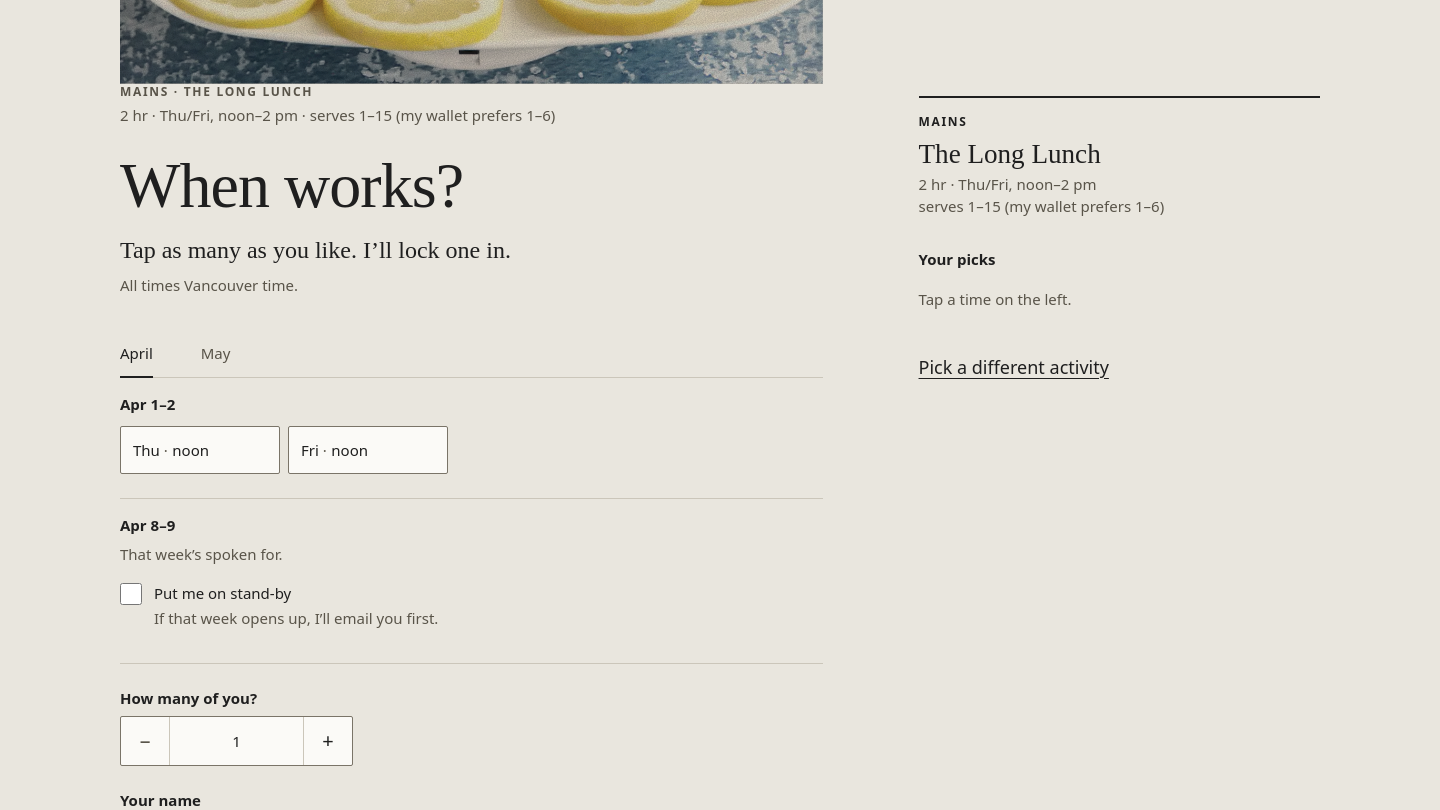
Test: S6 picker (T1.5.U2-U5) › stand-by replaces picked times (the server rule)
(page scrolled)
Click the button "Thu · noon".
click(200, 450)  # box [120,426,280,474]
(page scrolled)
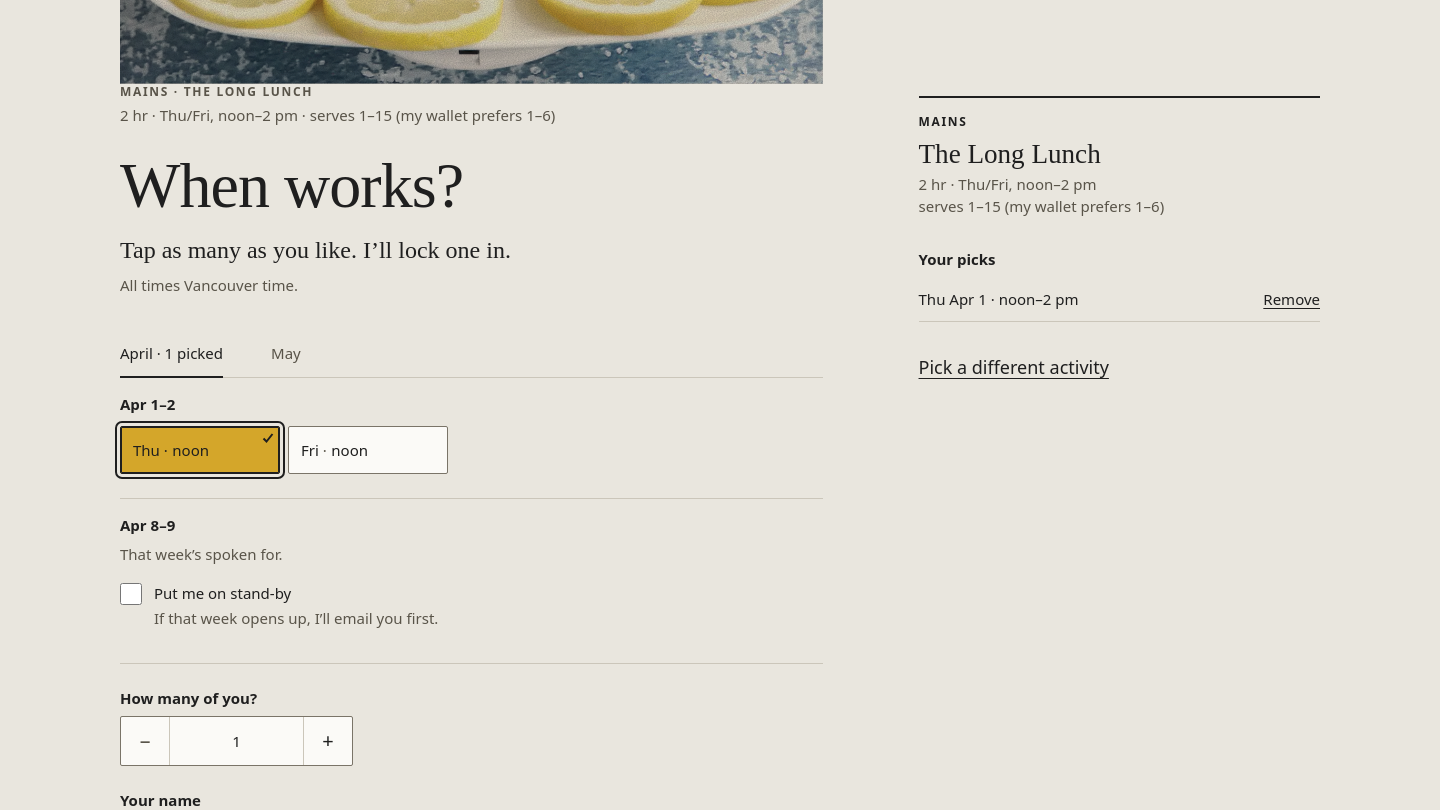
Click the checkbox.
click(131, 594)  # box [120,583,142,605]
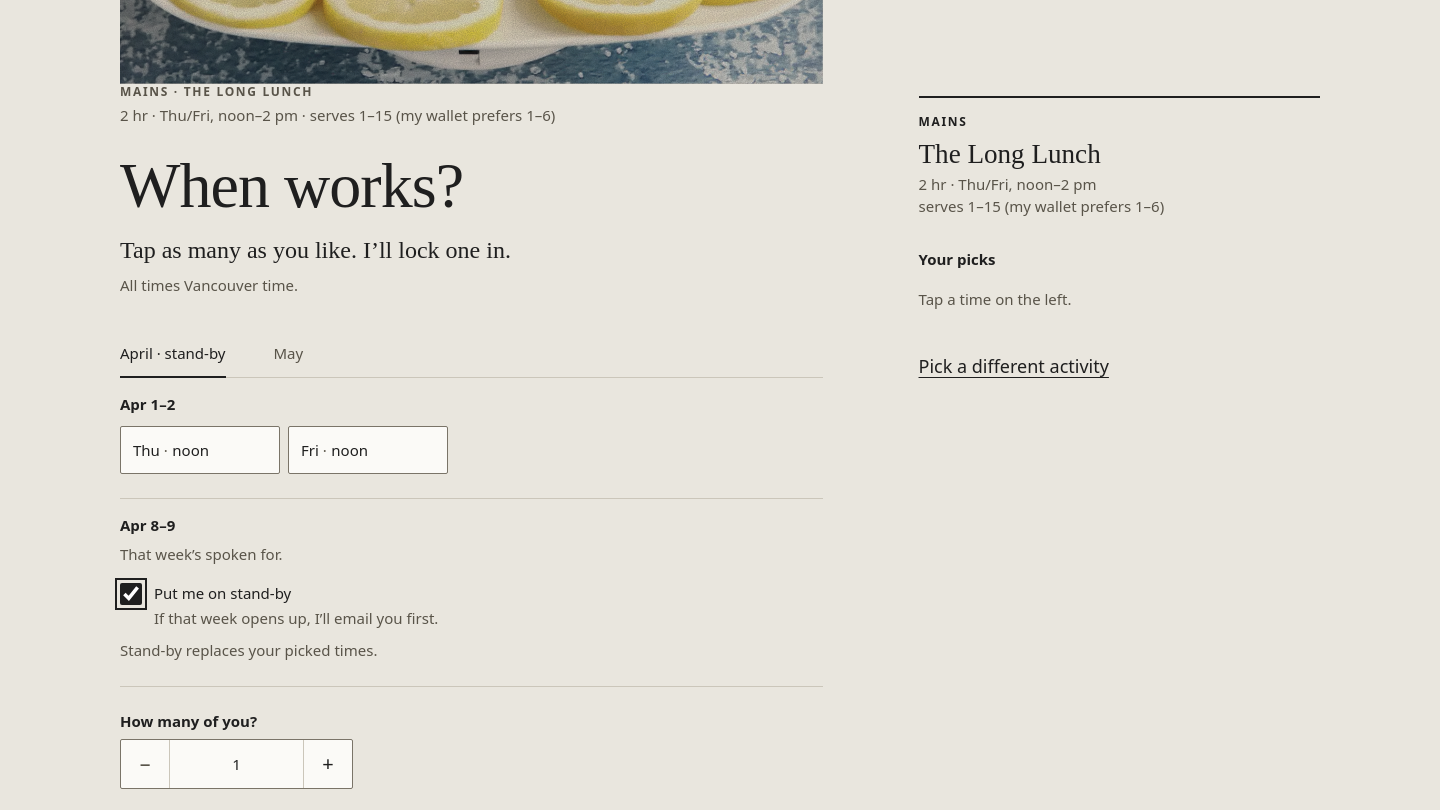
Now the text "Stand-by replaces your picked times." is shown, box [120,640,377,660]
